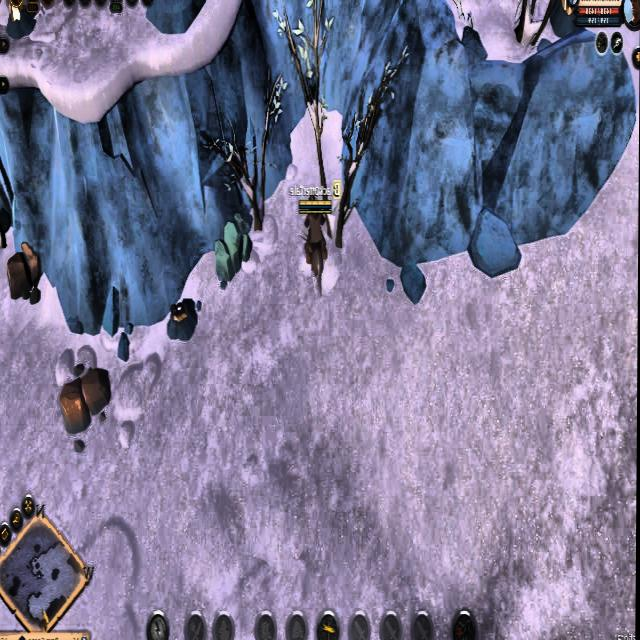copperore: (167, 288, 200, 342), (7, 0, 34, 36)
limestone: (59, 364, 115, 436), (5, 239, 47, 307)
sandstone: (213, 214, 256, 284)
